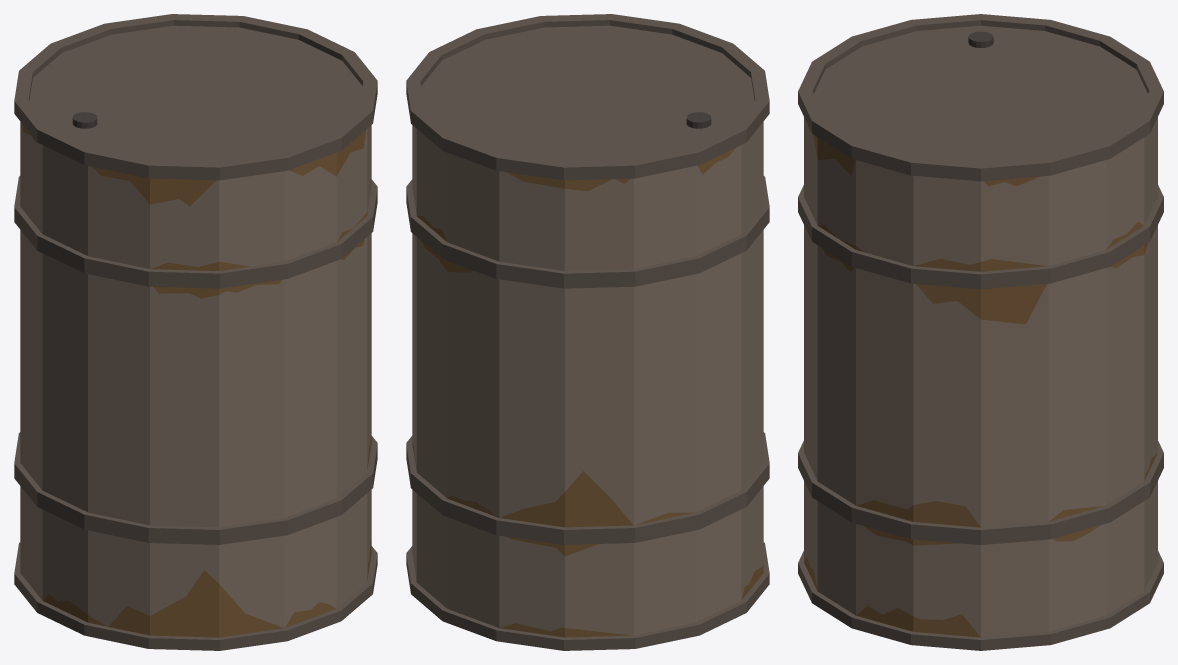
The model's file is SM_Barrel_01.glb.
3 views of the same model, side by side, from view 1: azimuth 30°, elevation 25°; view 2: azimuth 150°, elevation 25°; view 3: azimuth 270°, elevation 25° (orthographic).
Visible parts, largest first — view 1: SM_Barrel_01; view 2: SM_Barrel_01; view 3: SM_Barrel_01.
Boxes of the visible parts, <box> form: SM_Barrel_01: <box>14,14,377,650</box>; SM_Barrel_01: <box>406,14,769,650</box>; SM_Barrel_01: <box>798,14,1163,650</box>.
Size of the model in its own units: 0.6096 by 0.8875 by 0.6096.
Materials: 1 (1 with a texture image).
